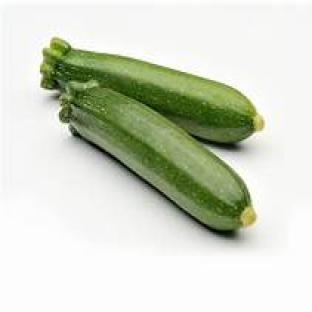Zucchini: (60, 80, 255, 230), (42, 39, 263, 142)
